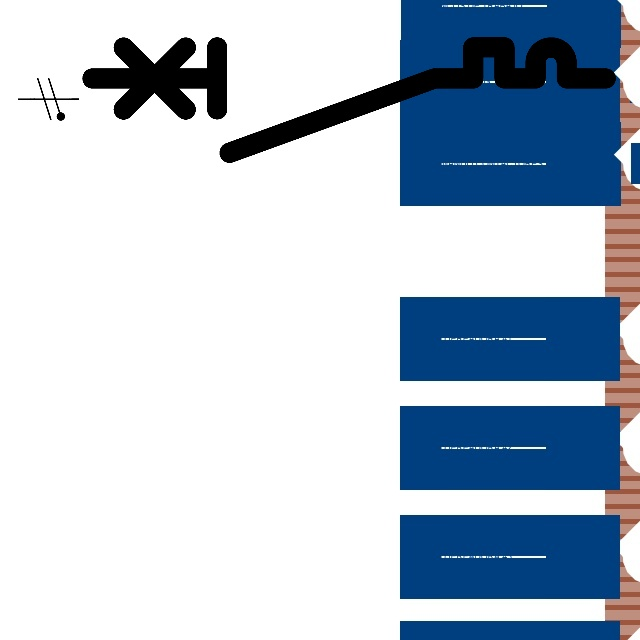interruptor_termomagnetico: (79, 34, 619, 166)
